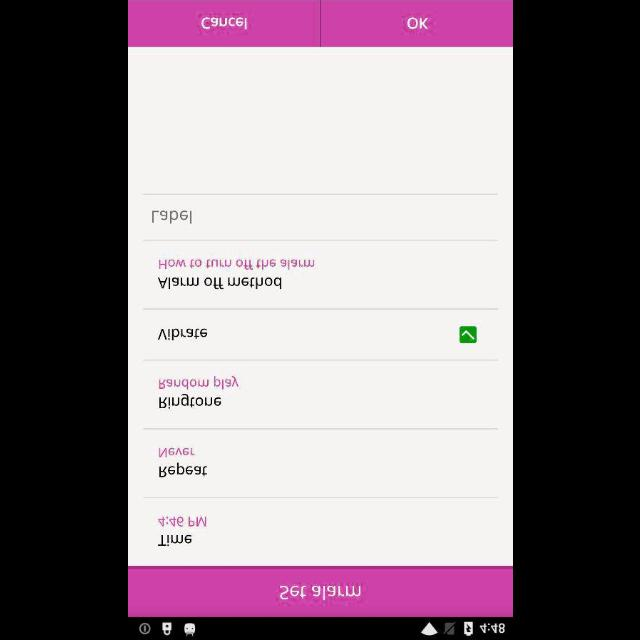checkbox: (458, 326, 476, 344)
text: (158, 258, 314, 270), (157, 276, 281, 290), (279, 584, 361, 600), (159, 374, 239, 390), (159, 393, 221, 409), (158, 462, 208, 476), (157, 328, 207, 340), (158, 515, 206, 527), (152, 210, 192, 224), (157, 534, 191, 546), (158, 447, 195, 458)
textbutton: (128, 0, 320, 48), (320, 0, 512, 48)
uppertaskbar: (128, 617, 512, 639)
